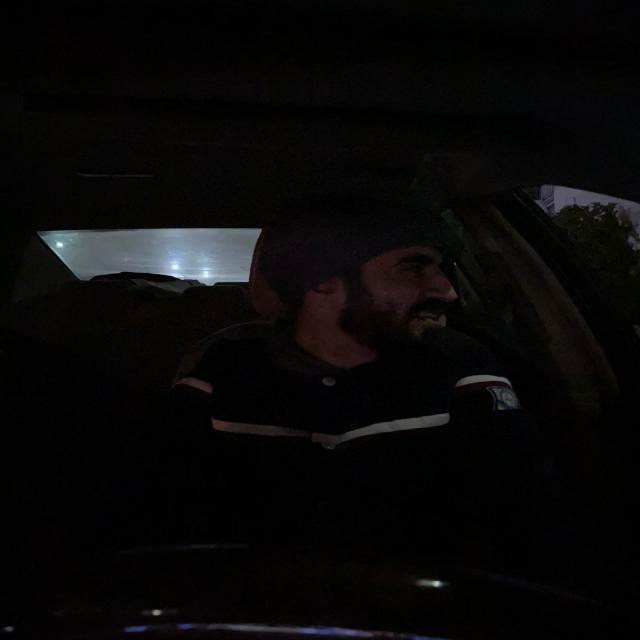LeftRight: (268, 194, 463, 368)
